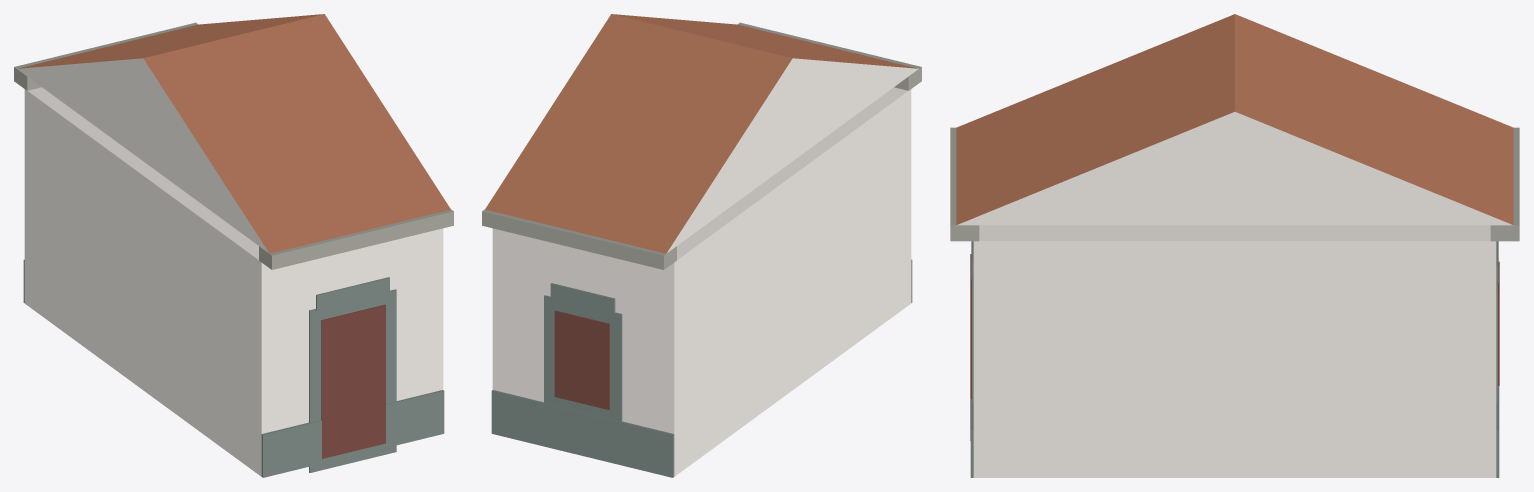
Rendered from SM_KitCuerpo_v2_LOD1.fbx.
3 views of the same model, side by side, from view 1: azimuth 30°, elevation 25°; view 2: azimuth 150°, elevation 25°; view 3: azimuth 270°, elevation 25° (orthographic). The views are drawn at different scales.
Parts seen in each view (by area): view 1: SM_bloques.kit_cuerpo_v2_LOD1; view 2: SM_bloques.kit_cuerpo_v2_LOD1; view 3: SM_bloques.kit_cuerpo_v2_LOD1.
Boxes of the visible parts, bbox=[...] form: SM_bloques.kit_cuerpo_v2_LOD1: bbox=[14, 14, 453, 477]; SM_bloques.kit_cuerpo_v2_LOD1: bbox=[482, 14, 921, 477]; SM_bloques.kit_cuerpo_v2_LOD1: bbox=[950, 14, 1519, 477].
Size of the model in its own units: 3.99 by 7.11 by 9.8.
